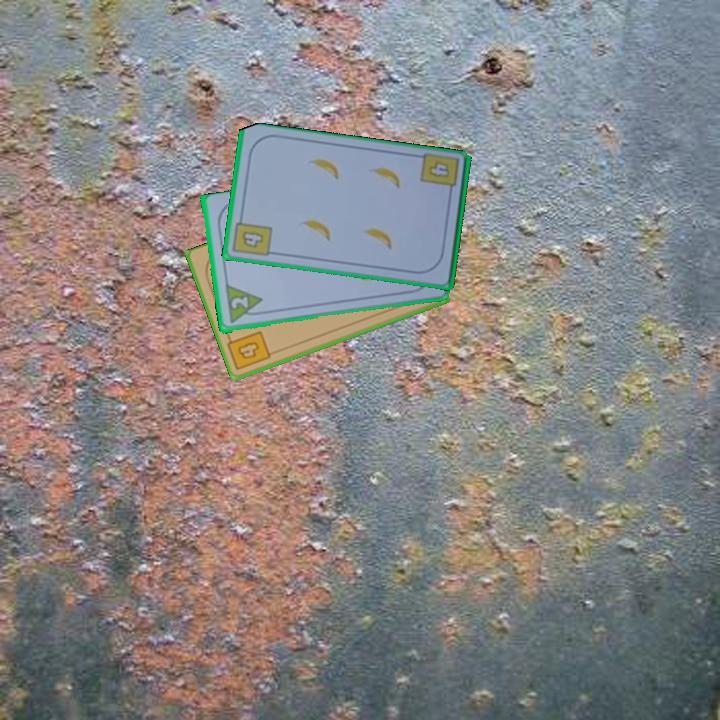2p: (227, 293, 251, 312)
4b: (223, 328, 274, 373), (229, 212, 275, 260), (425, 158, 452, 181)
